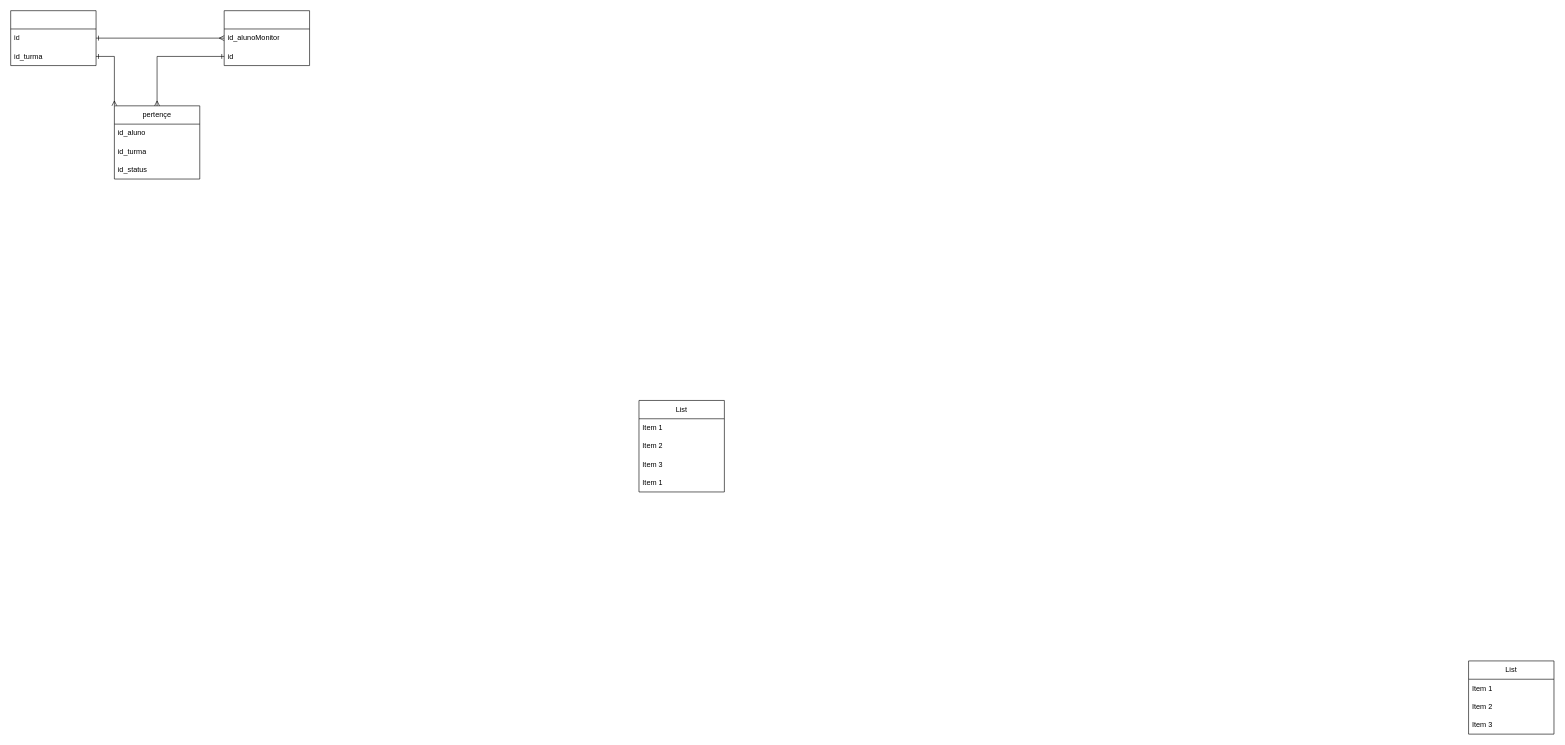
Some shapes in this 1565 by 745 pixel diagram are drawn without their labels. Each missing label, with the box of its shape:
aluno: (10, 10, 96, 66)
turma: (224, 10, 310, 66)
